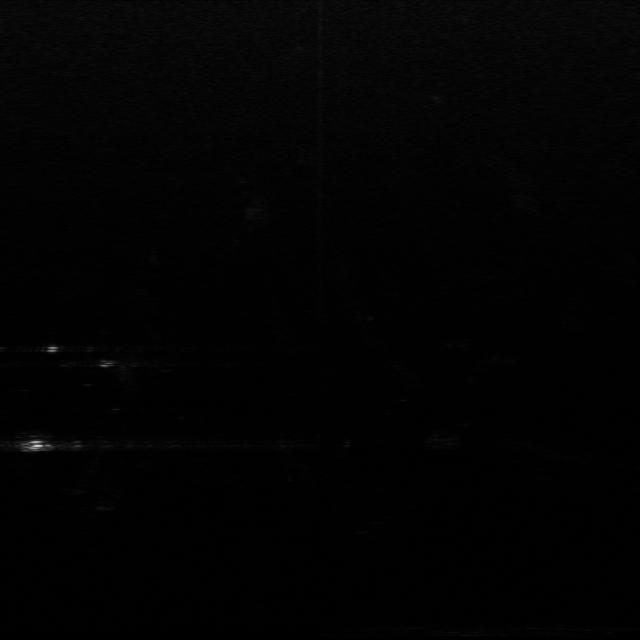rov: (17, 434, 53, 457)
